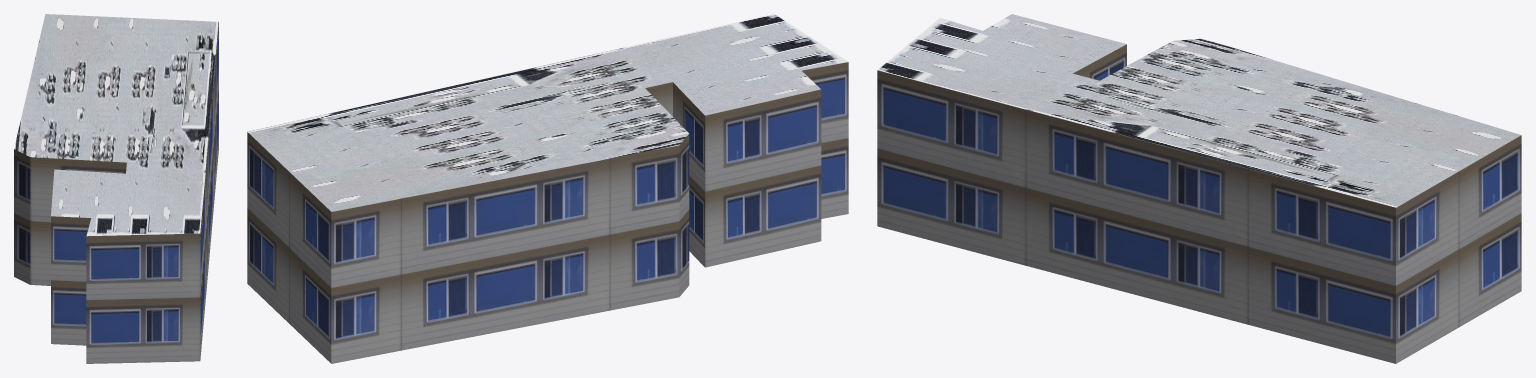
File: ResTex__5297.fbx
3 views of the same model, side by side, from view 1: azimuth 30°, elevation 25°; view 2: azimuth 150°, elevation 25°; view 3: azimuth 270°, elevation 25° (orthographic). The views are drawn at different scales.
Visible parts, largest first — view 1: CityEngineMaterial_4_m, CityEngineMaterial_23_m; view 2: CityEngineMaterial_23_m, CityEngineMaterial_4_m; view 3: CityEngineMaterial_23_m, CityEngineMaterial_4_m.
Boxes of the visible parts, x1,y1,x2,y2 form: CityEngineMaterial_4_m: (14,14,218,236); CityEngineMaterial_23_m: (14,23,218,363); CityEngineMaterial_23_m: (247,62,848,363); CityEngineMaterial_4_m: (247,14,847,211); CityEngineMaterial_23_m: (877,44,1521,363); CityEngineMaterial_4_m: (878,14,1520,207).
Bounding box in the file's own units: 15.98 × 6 × 22.44.
2 materials, 2 textured.
